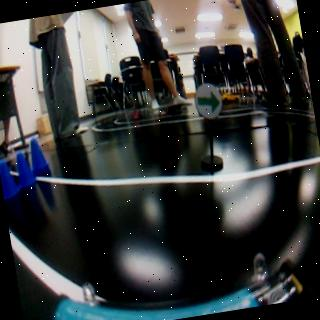right: (192, 81, 223, 121)
